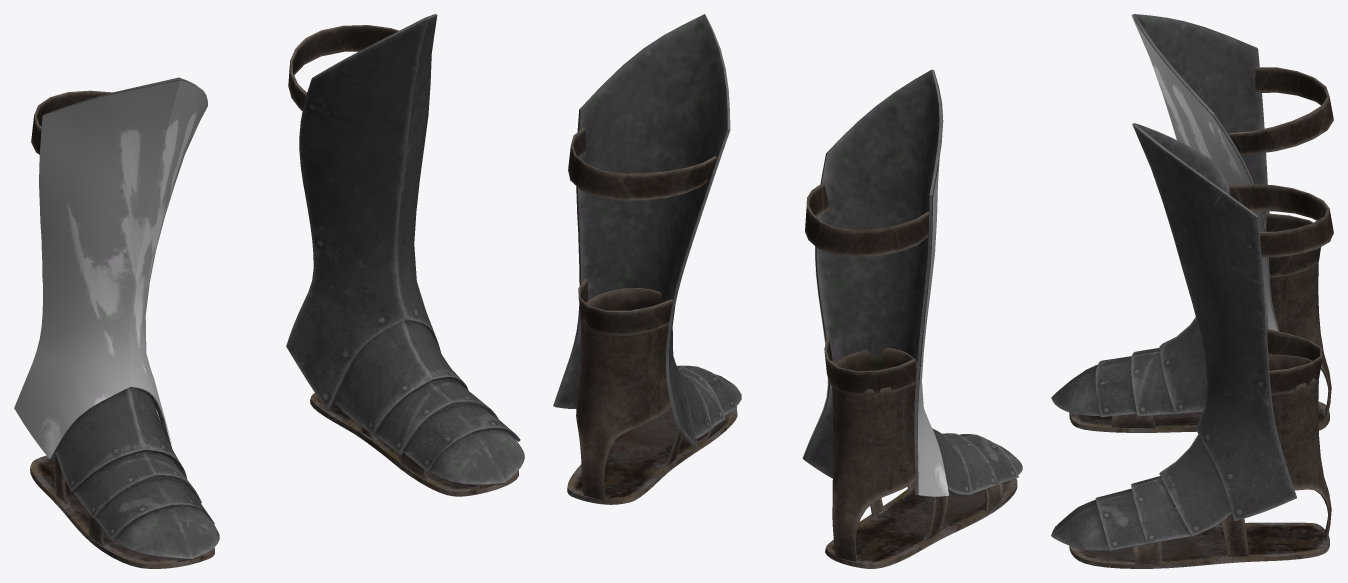
File: sk_uruk_hai_greaves_heavy_a2.fbx
3 renders of one model, left to right at view 1: azimuth 30°, elevation 25°; view 2: azimuth 150°, elevation 25°; view 3: azimuth 270°, elevation 25°, orthographic. The views are drawn at different scales.
Parts seen in each view (by area): view 1: sk_uruk_hai_greaves_heavy_a2.0, sk_uruk_hai_greaves_heavy_a2.2, sk_uruk_hai_greaves_heavy_a2.1; view 2: sk_uruk_hai_greaves_heavy_a2.0, sk_uruk_hai_greaves_heavy_a2.1, sk_uruk_hai_greaves_heavy_a2.2; view 3: sk_uruk_hai_greaves_heavy_a2.0, sk_uruk_hai_greaves_heavy_a2.1, sk_uruk_hai_greaves_heavy_a2.2.
Boxes of the visible parts, x1,y1,x2,y2 form: sk_uruk_hai_greaves_heavy_a2.0: (30, 14, 524, 568); sk_uruk_hai_greaves_heavy_a2.2: (14, 80, 207, 458); sk_uruk_hai_greaves_heavy_a2.1: (31, 25, 398, 277); sk_uruk_hai_greaves_heavy_a2.0: (553, 14, 1022, 568); sk_uruk_hai_greaves_heavy_a2.1: (568, 127, 929, 395); sk_uruk_hai_greaves_heavy_a2.2: (802, 70, 948, 496); sk_uruk_hai_greaves_heavy_a2.0: (1051, 14, 1331, 568); sk_uruk_hai_greaves_heavy_a2.1: (1229, 67, 1333, 395); sk_uruk_hai_greaves_heavy_a2.2: (1131, 15, 1277, 330).
Bounding box in the file's own units: 0.4721 × 0.3122 × 0.5046.
Materials: 3 (3 with a texture image).
